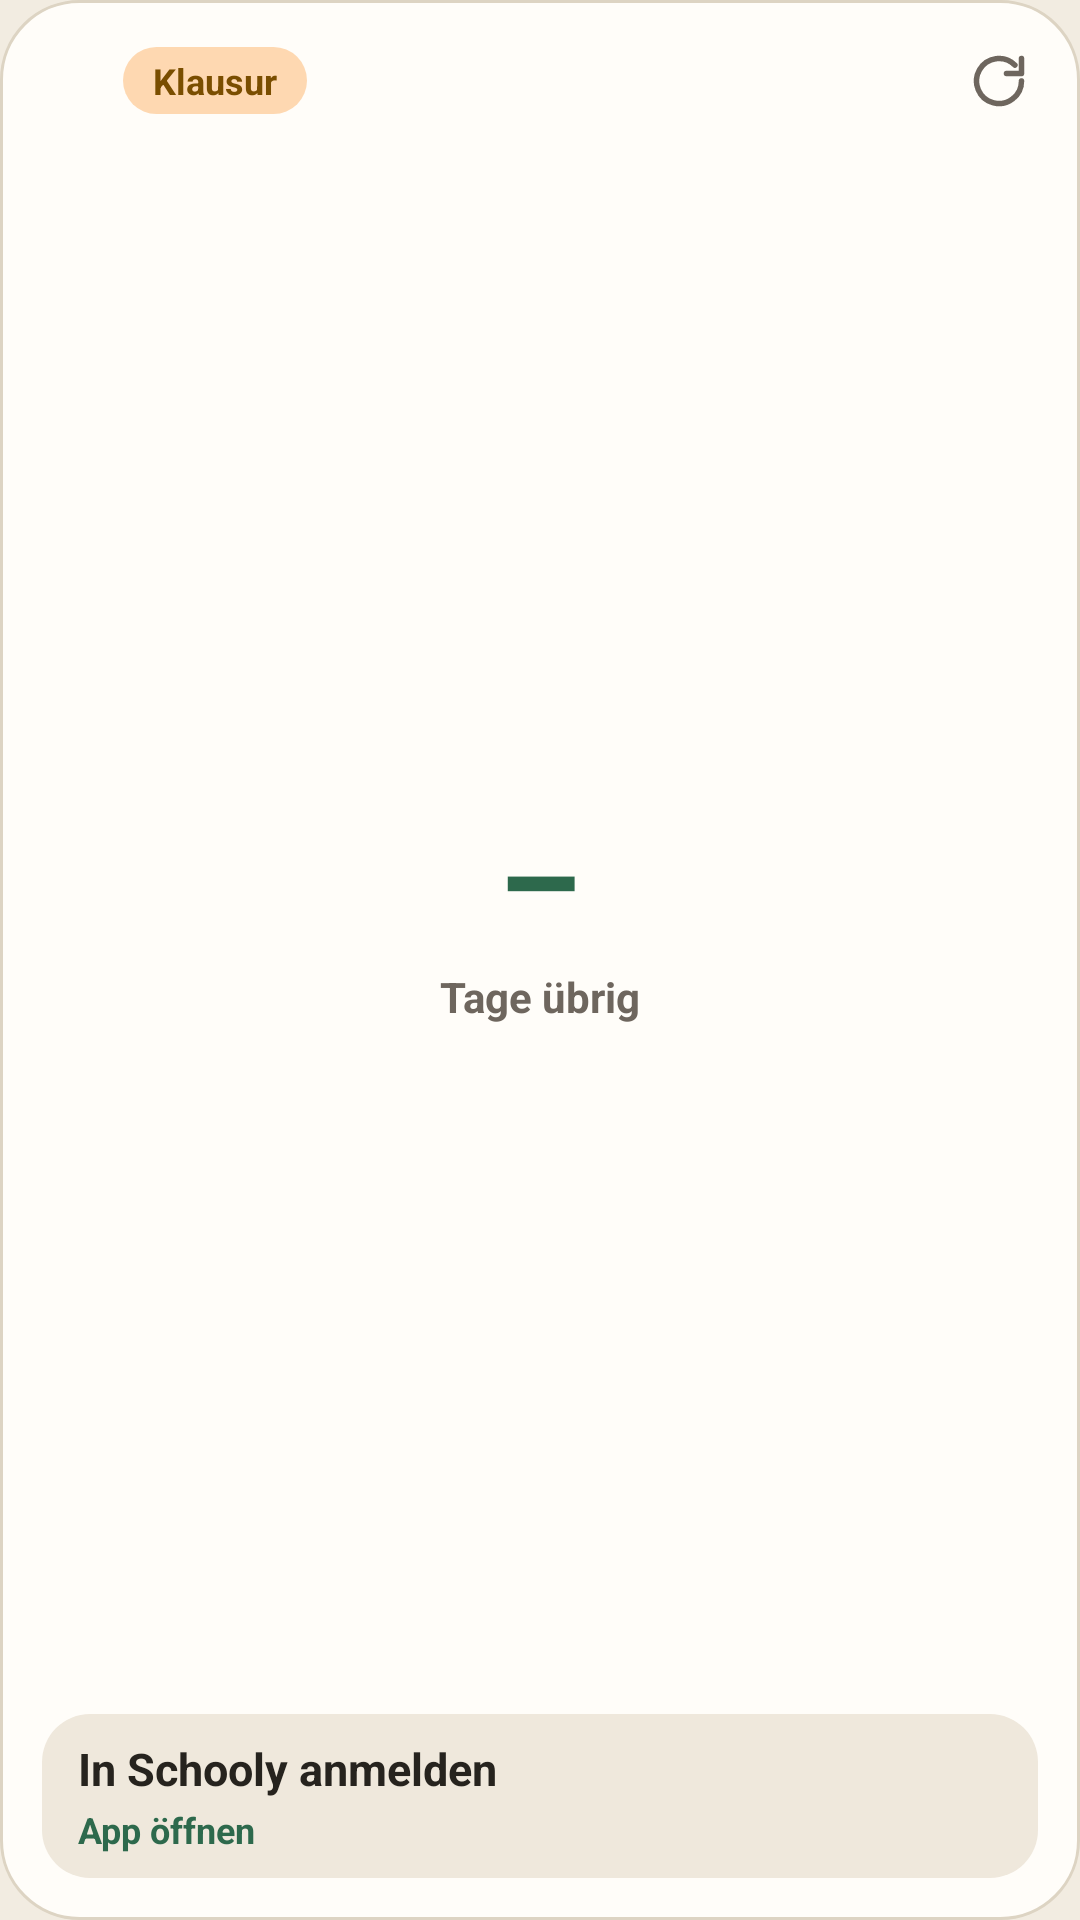

Icon bounding boxes for this 1080*1920 phone screenshot, format (x1, y1, x2, y2):
Aktualisieren: (973, 55, 1025, 107)
